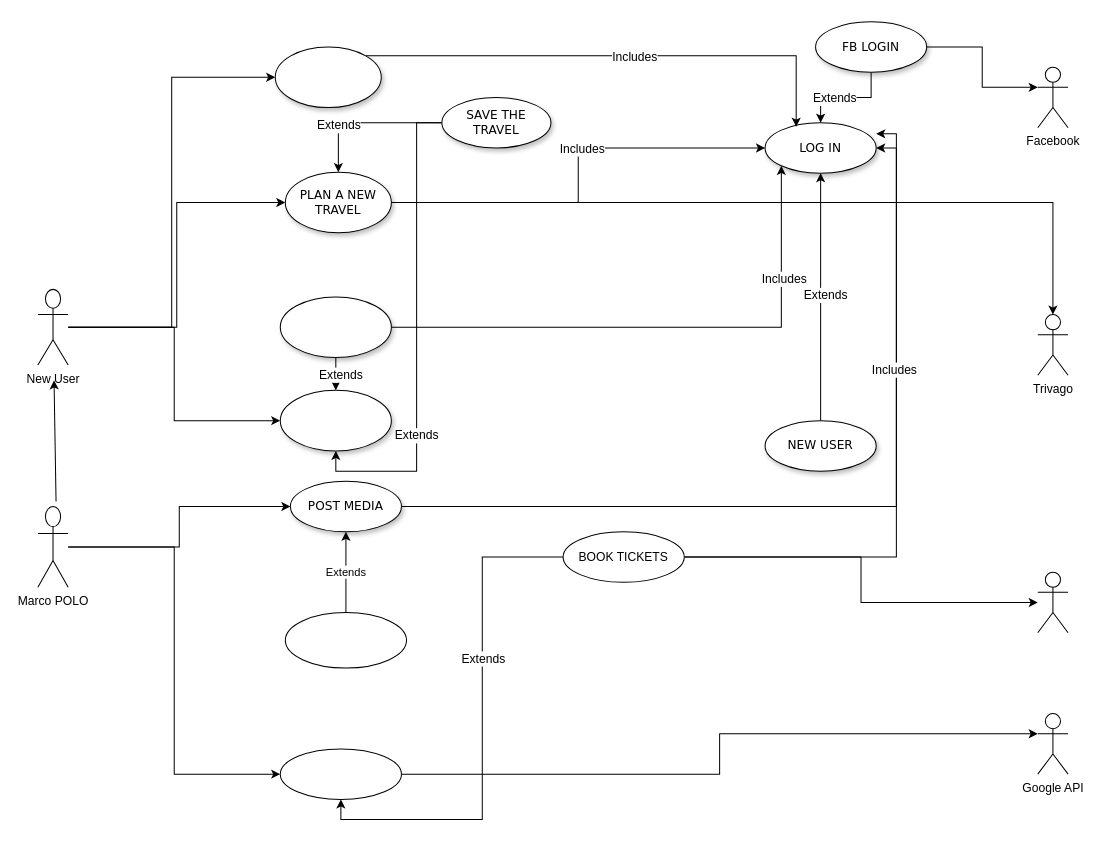
Image size: 1101x845. Some labels were removed from this diagram. Each missing label, with the centre of its shape:
BOOK AN OLD TRAVEL: point 336,328
PLAN SAVED TRAVEL: point 328,78
SHARE: point 345,640
TicketONE: point 1052,602
VIEW OTHER'S TRAVEL: point 336,421
VIEW PLACES/EVENTS: point 340,773
